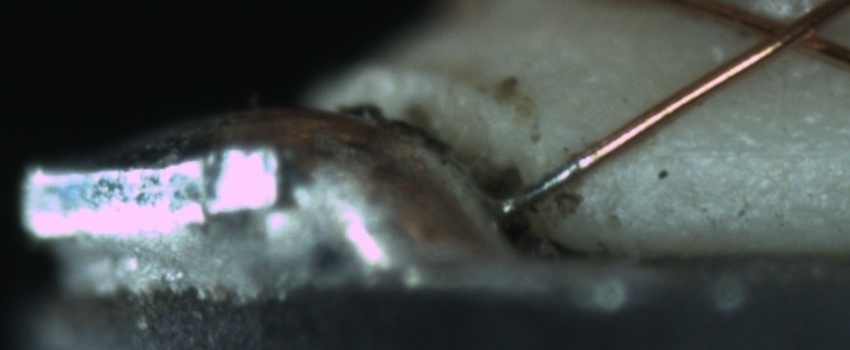CL: (741, 3, 839, 62)
DL: (645, 120, 847, 180)
TS: (501, 151, 592, 217)
